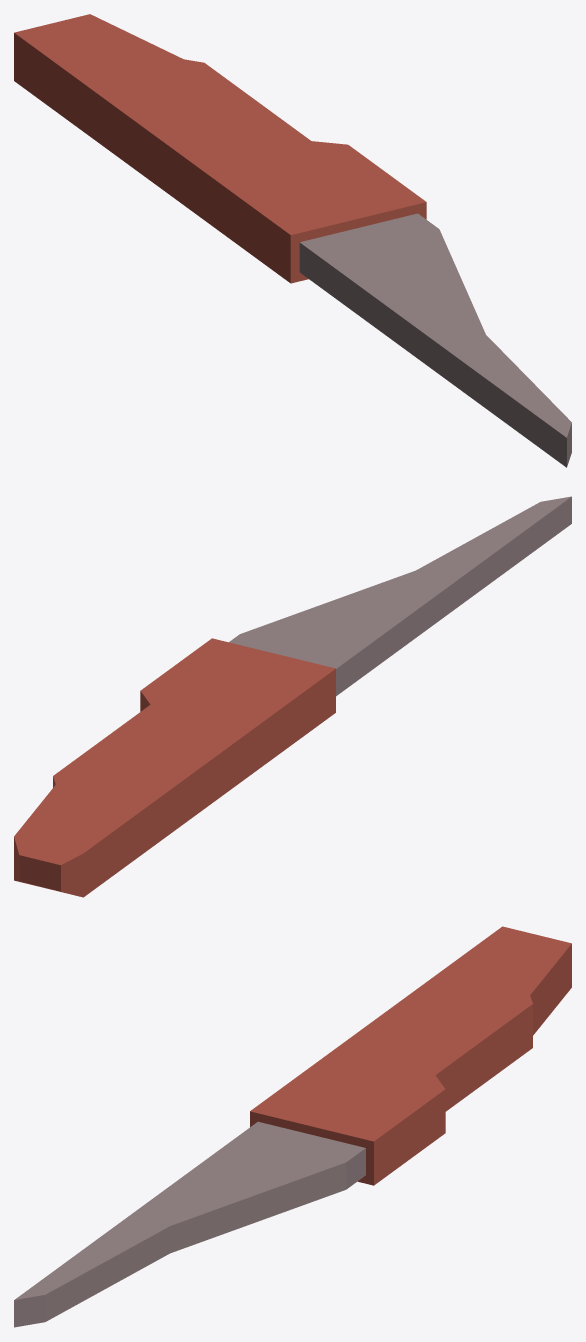
File: knife.fbx
3 views of the same model, one above another, from view 1: azimuth 30°, elevation 25°; view 2: azimuth 150°, elevation 25°; view 3: azimuth 330°, elevation 25° (orthographic). The views are drawn at different scales.
Parts seen in each view (by area): view 1: Knife; view 2: Knife; view 3: Knife.
Part boxes in pixels (x1,y1,x2,y2): Knife: (14, 14, 571, 467); Knife: (14, 496, 571, 897); Knife: (14, 926, 571, 1327).
Bounding box in the file's own units: 20 × 6.8 × 141.
